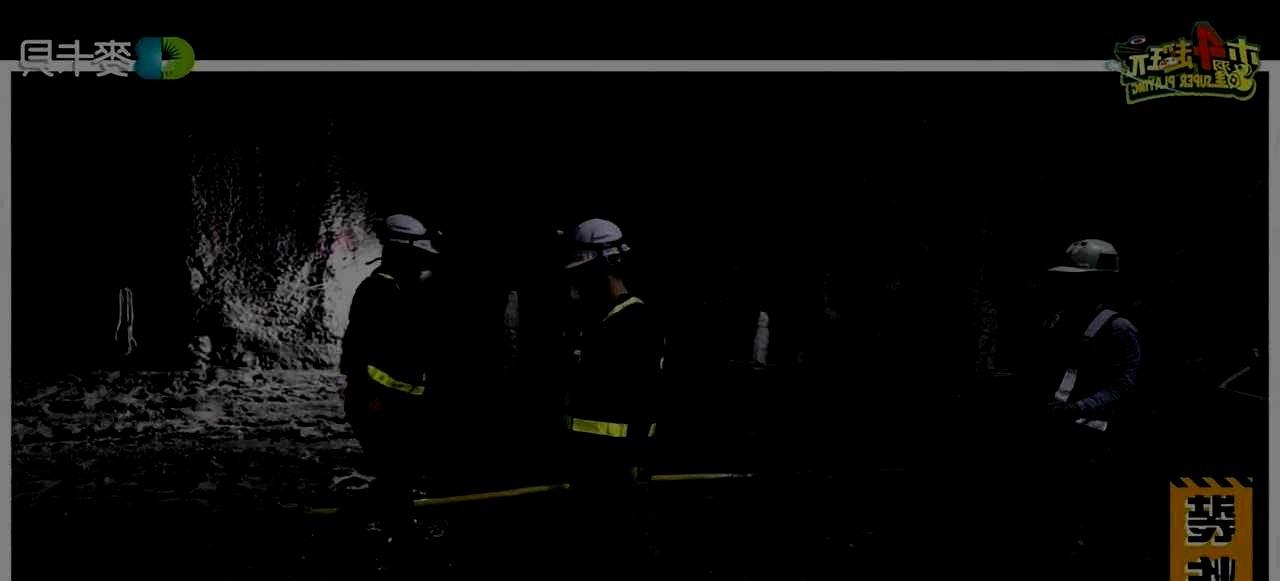helmet: (1045, 238, 1121, 316), (559, 218, 631, 299), (378, 211, 439, 279)
